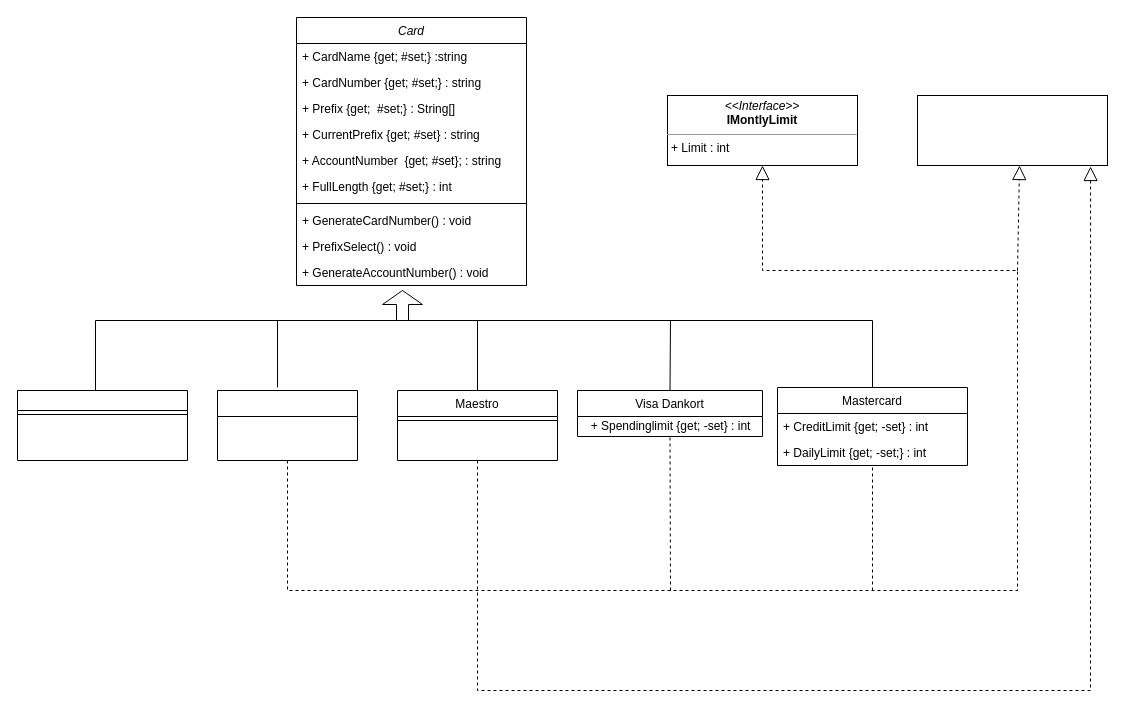
The diagram is 1125 pixels wide and 722 high, and some of its shapes have lost their labels. Here are the shapes that lost their labels. From the top down, the centre of each, then its label:
point 1012,130: <<Interface>> IExpireDate + ExpiryDate : Datetime
point 102,425: Hævekort
point 287,425: Visa Electron
